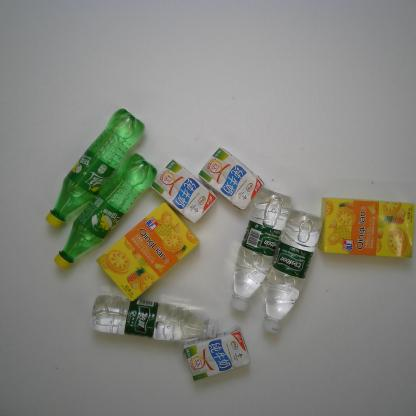Dessert: (94, 199, 202, 302), (317, 196, 416, 260)
Drink: (44, 106, 148, 231), (52, 151, 159, 272), (229, 187, 295, 315), (260, 207, 325, 334), (89, 294, 219, 344)
Milk: (149, 157, 218, 225), (198, 146, 266, 211), (181, 326, 251, 383)
